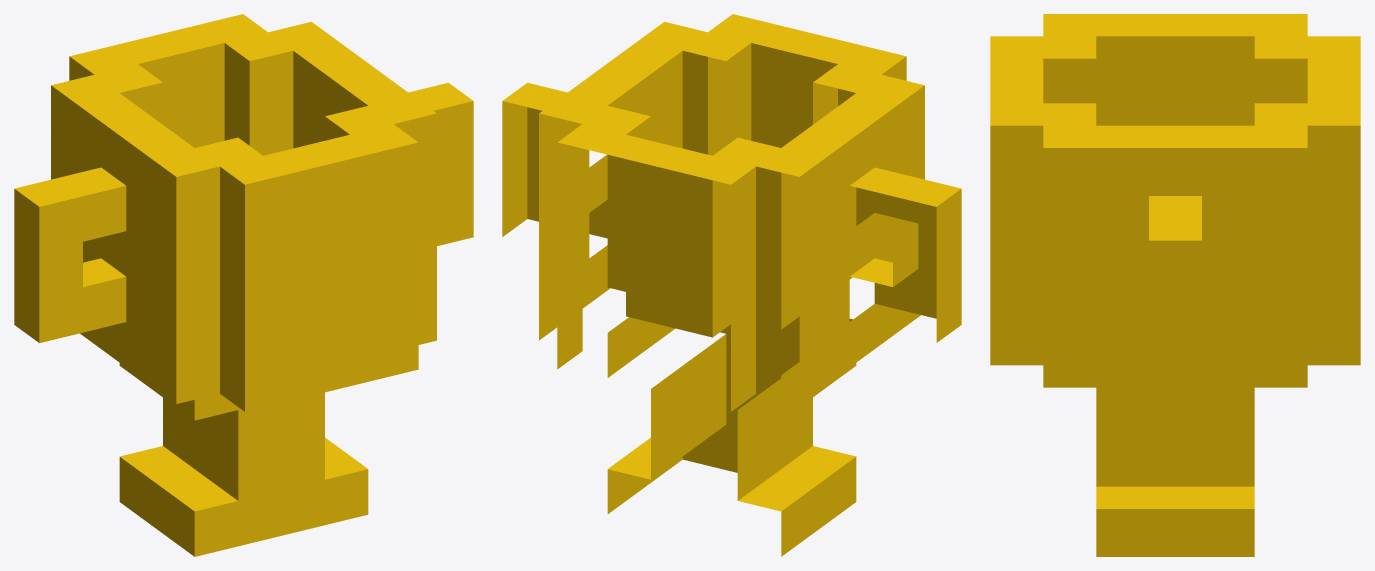
Rendered from trofeo.fbx.
3 views of the same model, side by side, from view 1: azimuth 30°, elevation 25°; view 2: azimuth 150°, elevation 25°; view 3: azimuth 270°, elevation 25° (orthographic). The views are drawn at different scales.
Parts seen in each view (by area): view 1: Matrix; view 2: Matrix; view 3: Matrix.
Part boxes in pixels (left/top/right/bottom): Matrix: left=14, top=14, right=473, bottom=556; Matrix: left=502, top=14, right=961, bottom=556; Matrix: left=990, top=14, right=1360, bottom=556.
Size of the model in its own units: 10 by 9 by 7.
